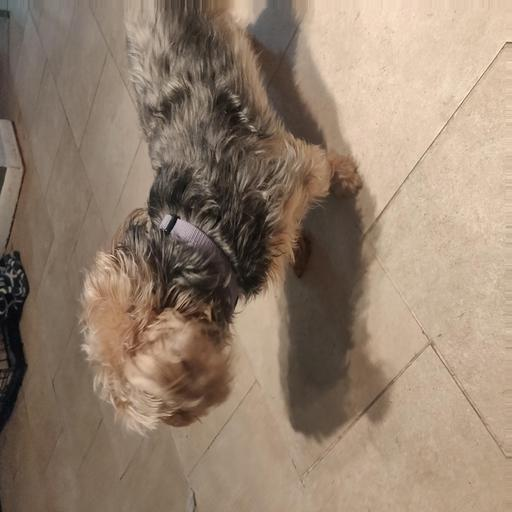dog: (62, 140, 359, 437)
